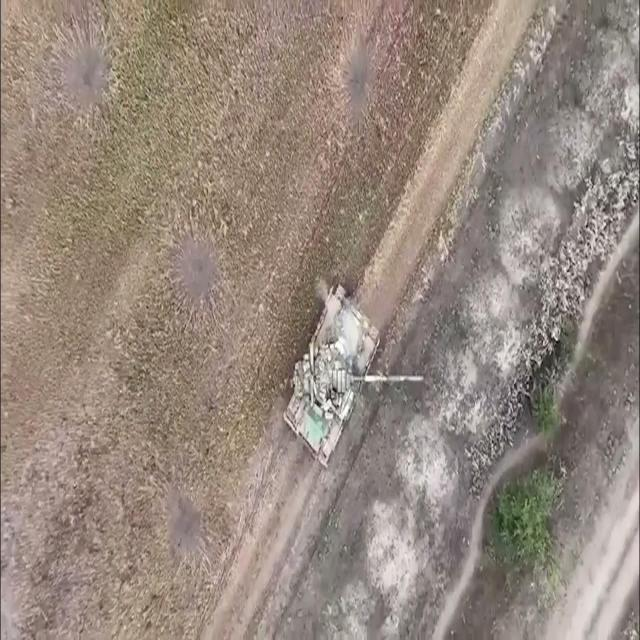tank: (282, 282, 380, 469)
